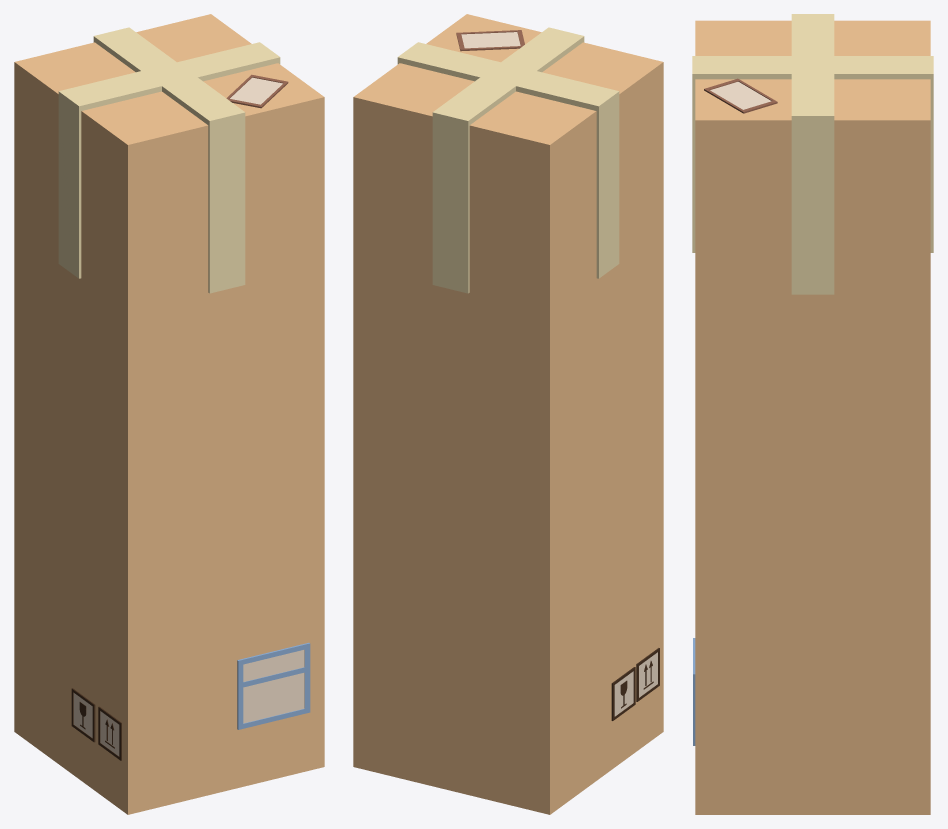
3 renders of one model, left to right at view 1: azimuth 30°, elevation 25°; view 2: azimuth 150°, elevation 25°; view 3: azimuth 270°, elevation 25°, orthographic. The views are drawn at different scales.
Parts seen in each view (by area): view 1: Box1; view 2: Box1; view 3: Box1.
Part boxes in pixels (box(x1,y1,x2,y2)): Box1: box(14, 14, 324, 814); Box1: box(353, 14, 663, 814); Box1: box(692, 14, 933, 814).
Size of the model in its own units: 64.05 by 205 by 63.87.
